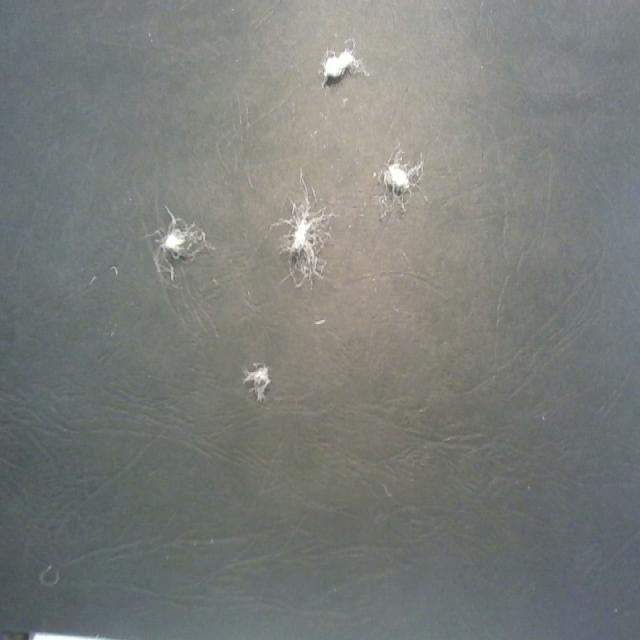feather: (280, 182, 332, 286), (377, 147, 427, 213), (153, 211, 201, 272), (319, 40, 365, 81), (240, 358, 271, 402)
